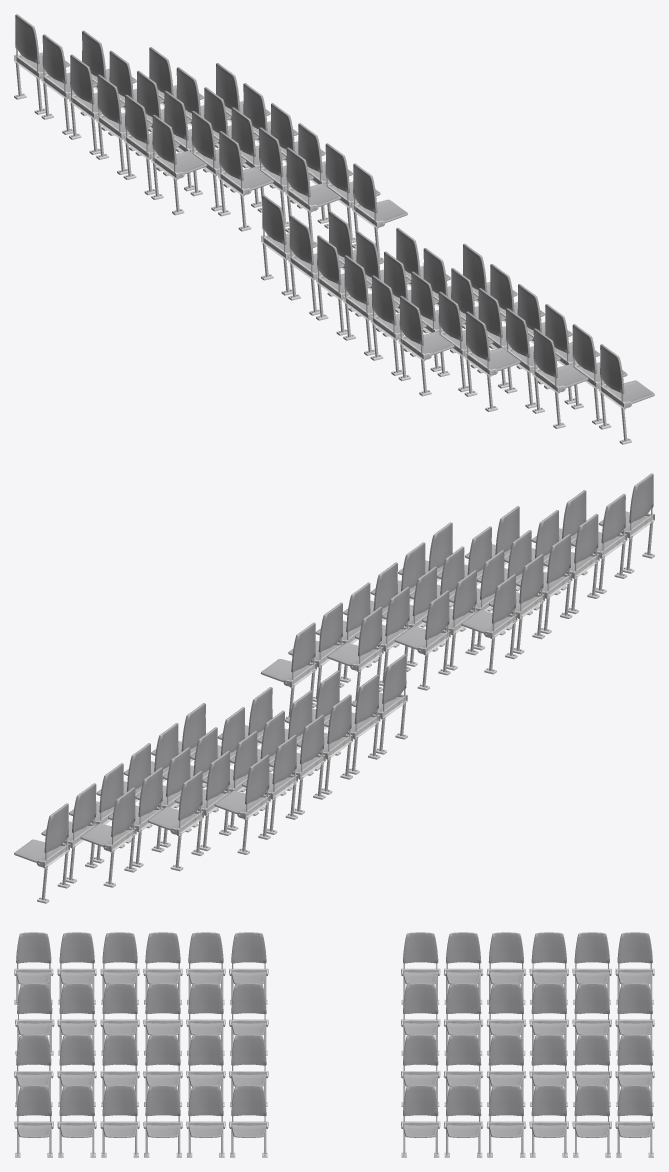
File: ChairsCombined.fbx
The picture shows the model from 3 angles, top to bottom: view 1: azimuth 30°, elevation 25°; view 2: azimuth 150°, elevation 25°; view 3: azimuth 270°, elevation 25°; orthographic projection. The views are drawn at different scales.
Visible parts, largest first — view 1: FoldingChair_26; view 2: FoldingChair_26; view 3: FoldingChair_26.
Boxes of the visible parts, x1,y1,x2,y2 form: FoldingChair_26: (14, 14, 654, 444); FoldingChair_26: (14, 473, 654, 903); FoldingChair_26: (14, 932, 654, 1157).
Bounding box in the file's own units: 4.04 × 11.95 × 2.96.
